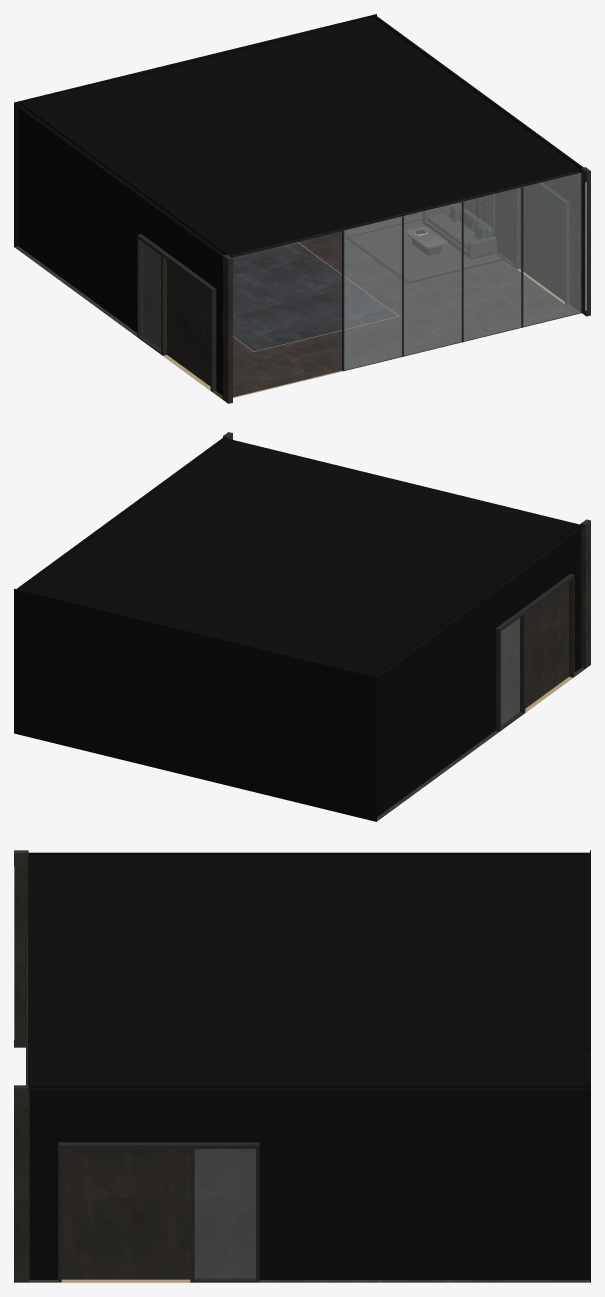
Rendered from room_suv.glb.
The picture shows the model from 3 angles, top to bottom: view 1: azimuth 30°, elevation 25°; view 2: azimuth 150°, elevation 25°; view 3: azimuth 270°, elevation 25°; orthographic projection. The views are drawn at different scales.
Parts seen in each view (by area): view 1: MTG_Reveals, MTG_Glass_Vitrine, MTG_Floor, MTG_PortalFill_L, MTG_PortalFill_R, MTG_Rug, MTG_Walls, MTG_Sofa, MTG_Glass_PortalL, MTG_Pier_-1, MTG_Pier_1, MTG_Ceiling (+5 smaller); view 2: MTG_Reveals, MTG_PortalFill_L, MTG_Glass_PortalL, MTG_Pier_-1, MTG_PortalL_Mull, MTG_Floor, MTG_PortalL_JambA, MTG_PortalL_Head, MTG_PortalL_JambB; view 3: MTG_Reveals, MTG_PortalFill_R, MTG_Glass_PortalR, MTG_Pier_1, MTG_Pier_-1, MTG_PortalR_Head, MTG_Floor, MTG_PortalR_Mull.
Boxes of the visible parts, box(x1,y1,x2,y2) form: MTG_Reveals: box(14, 14, 583, 395); MTG_Glass_Vitrine: box(344, 173, 580, 369); MTG_Floor: box(14, 211, 579, 399); MTG_PortalFill_L: box(142, 242, 210, 386); MTG_PortalFill_R: box(495, 184, 564, 301); MTG_Rug: box(349, 220, 502, 281); MTG_Walls: box(458, 171, 580, 310); MTG_Sofa: box(422, 203, 496, 259); MTG_Glass_PortalL: box(142, 242, 160, 348); MTG_Pier_-1: box(223, 254, 232, 403); MTG_Pier_1: box(581, 167, 590, 316); MTG_Ceiling: box(230, 171, 576, 257); MTG_Reveals: box(14, 437, 584, 821); MTG_PortalFill_L: box(501, 582, 568, 725); MTG_Glass_PortalL: box(501, 618, 519, 724); MTG_Pier_-1: box(581, 519, 590, 668); MTG_PortalL_Mull: box(519, 614, 525, 713); MTG_Floor: box(377, 668, 584, 821); MTG_PortalL_JambA: box(495, 631, 500, 731); MTG_PortalL_Head: box(495, 574, 574, 632); MTG_PortalL_JambB: box(569, 578, 574, 677); MTG_Reveals: box(28, 850, 590, 1282); MTG_PortalFill_R: box(61, 1149, 255, 1279); MTG_Glass_PortalR: box(195, 1149, 255, 1277); MTG_Pier_1: box(14, 1085, 28, 1282); MTG_Pier_-1: box(14, 850, 28, 1047); MTG_PortalR_Head: box(58, 1142, 259, 1148); MTG_Floor: box(28, 1280, 589, 1282); MTG_PortalR_Mull: box(190, 1149, 194, 1282).
Bounding box in the file's own units: 13 × 4.95 × 13.32.
24 materials, 5 textured.
